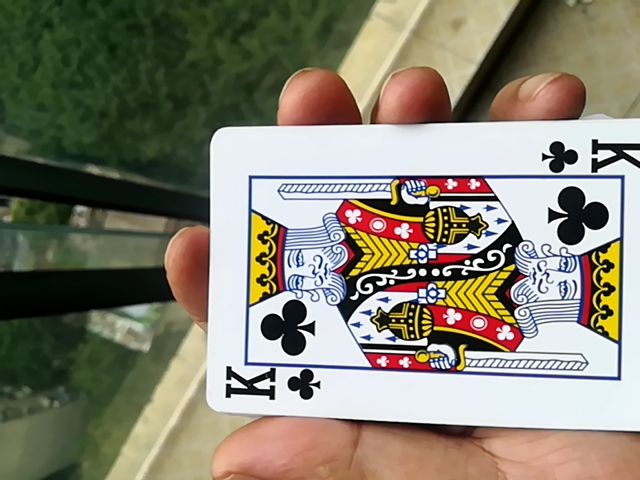mh k: (200, 118, 627, 443)
